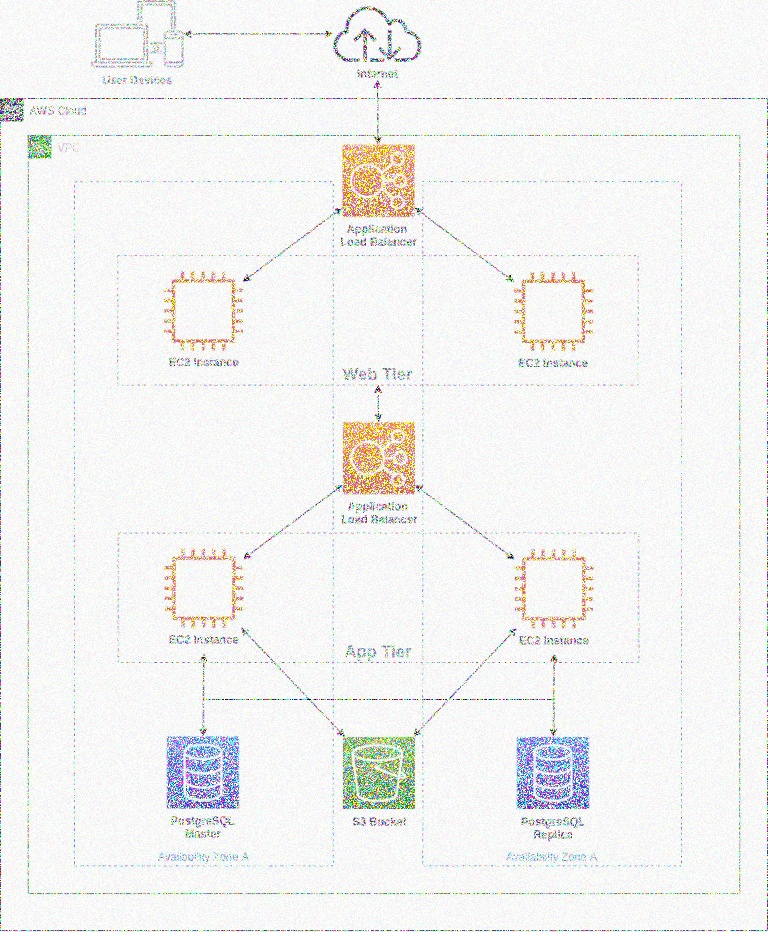Dynamo DB: (519, 733, 590, 811), (167, 738, 241, 810)
EC2: (159, 265, 248, 354), (509, 270, 601, 355), (162, 540, 247, 631), (513, 543, 595, 632)
ELB: (339, 415, 418, 497), (340, 140, 417, 221)
Internet: (330, 2, 433, 68)
S3: (337, 731, 420, 813)
aws: (0, 98, 27, 122)
